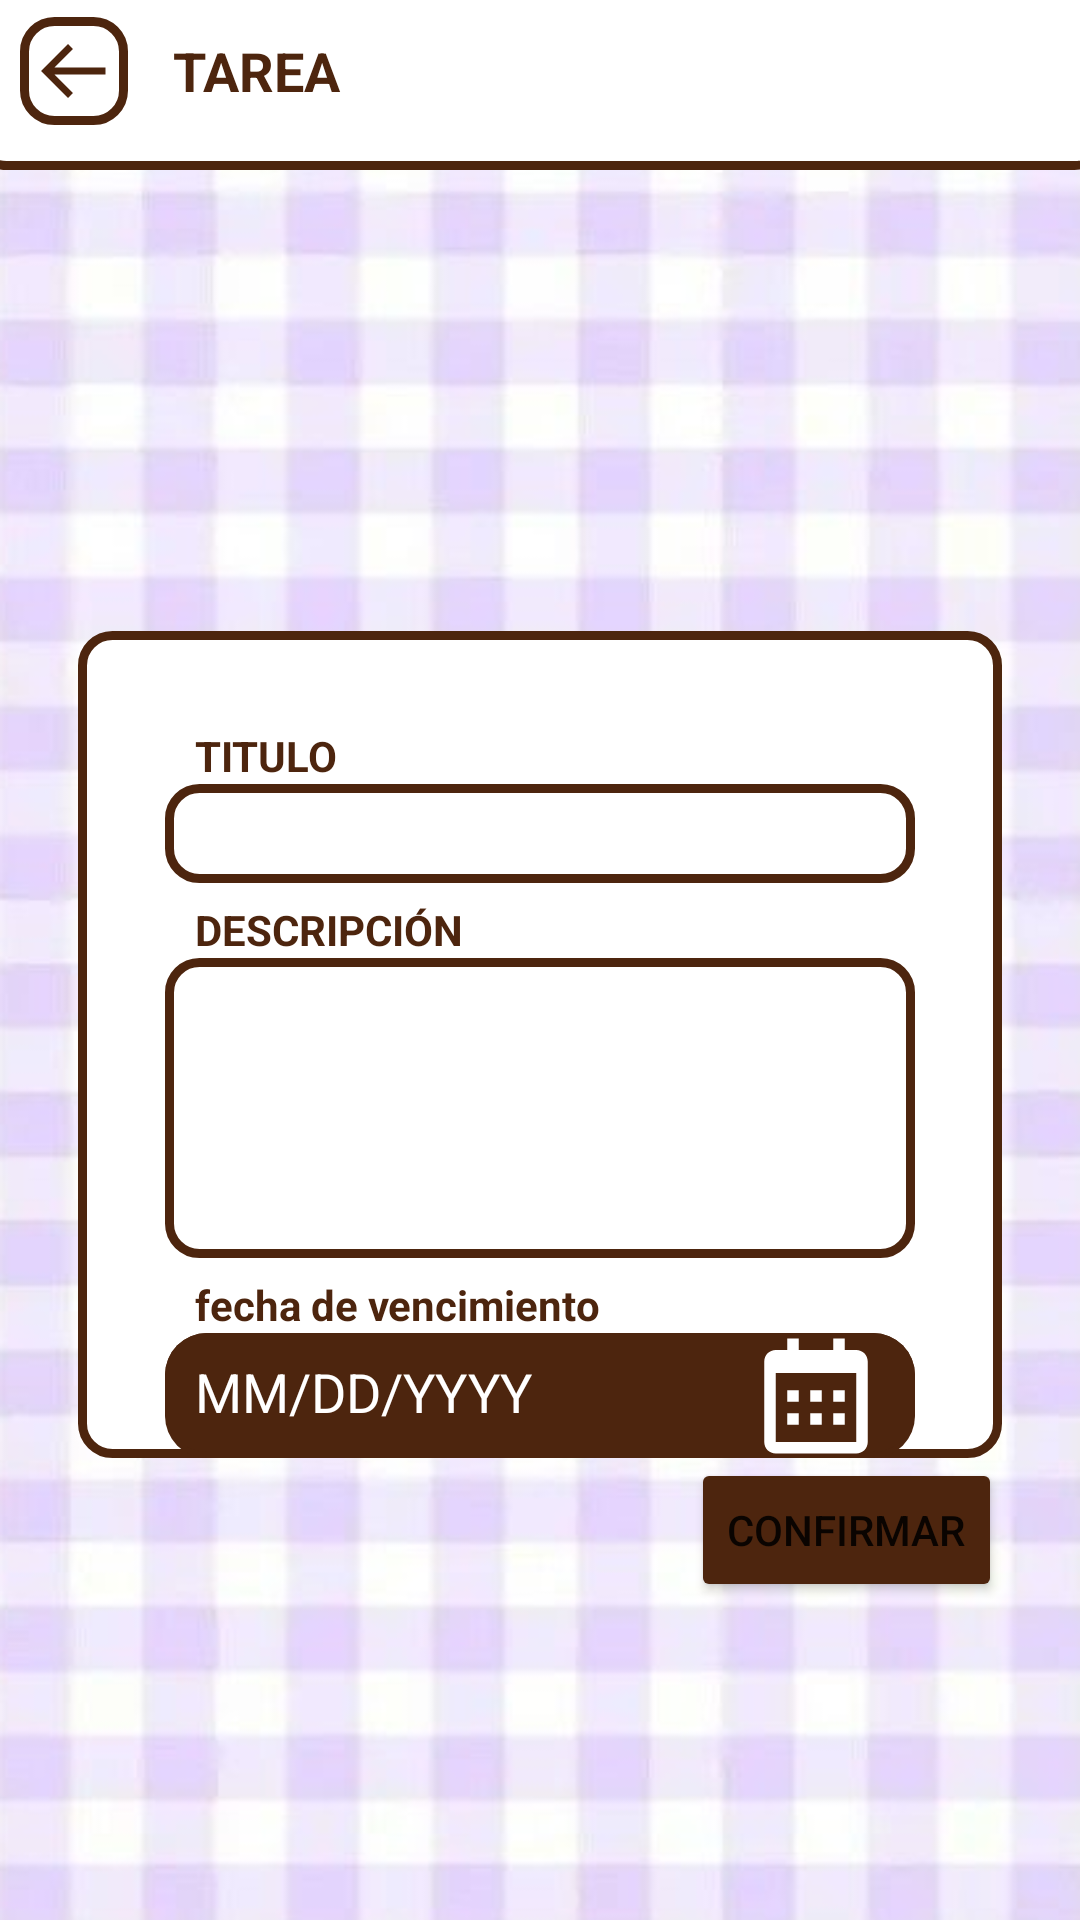

Icon click points for this 1080x1920 phone screenshot, format [x,y]:
arrow back brown: [74,71]
